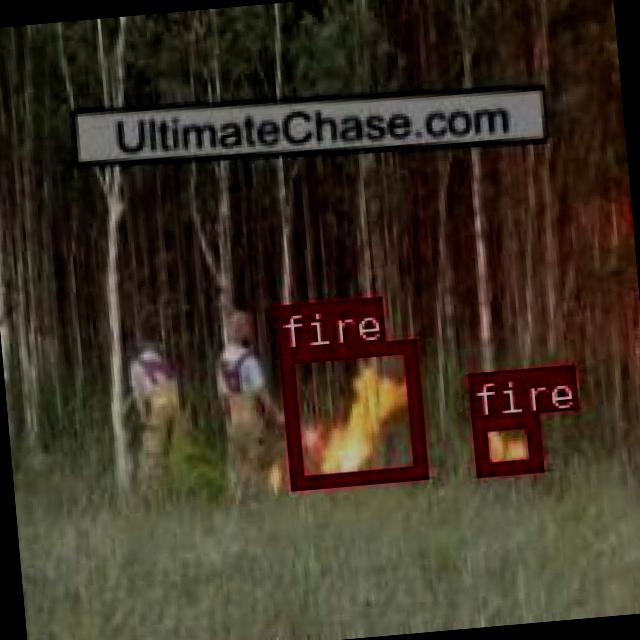fire: (277, 338, 423, 487), (469, 412, 538, 474)
